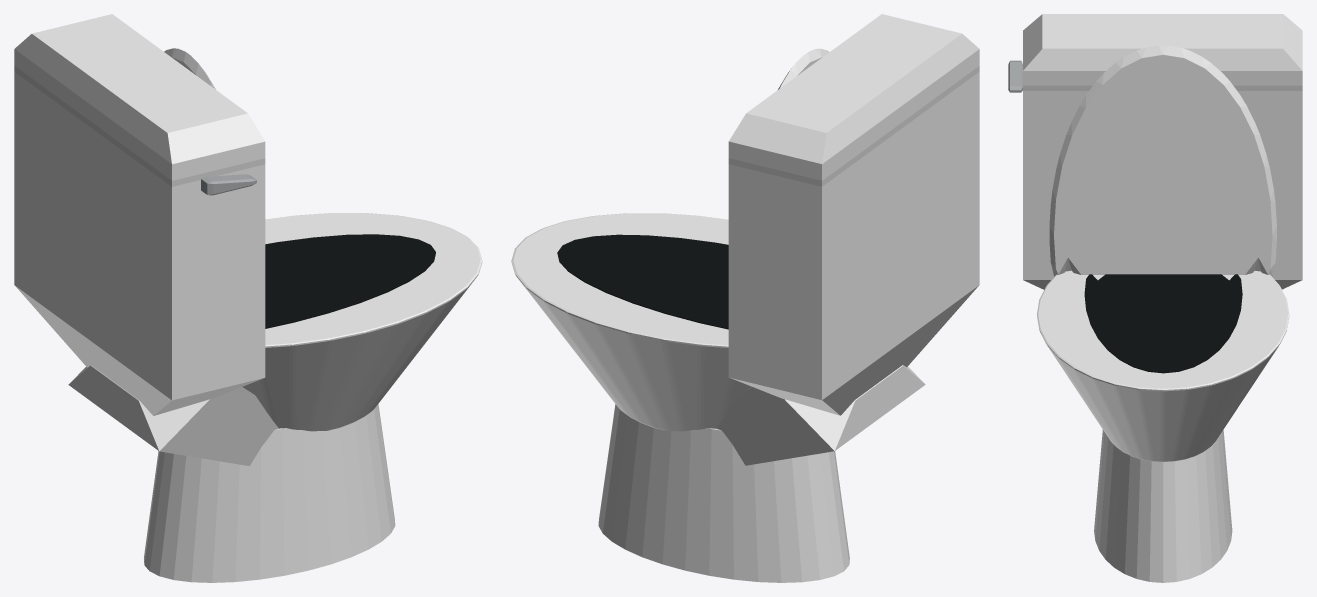
Rendered from ToiletV1.fbx.
3 views of the same model, side by side, from view 1: azimuth 30°, elevation 25°; view 2: azimuth 150°, elevation 25°; view 3: azimuth 270°, elevation 25° (orthographic). The views are drawn at different scales.
Parts seen in each view (by area): view 1: Cylinder; view 2: Cylinder; view 3: Cylinder.
Boxes of the visible parts, bbox=[...] form: Cylinder: bbox=[14, 14, 482, 582]; Cylinder: bbox=[511, 14, 979, 582]; Cylinder: bbox=[1008, 14, 1302, 582].
Size of the model in its own units: 373 by 488 by 630.
